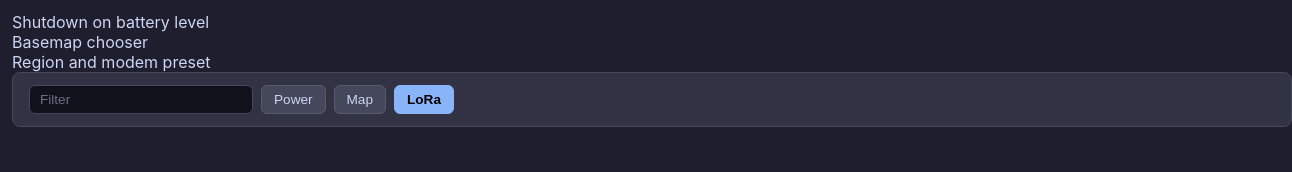
Test: SectionNav filter › matches a section by its own label
In the search field: (141, 100) [29,85,253,114], type "lora"
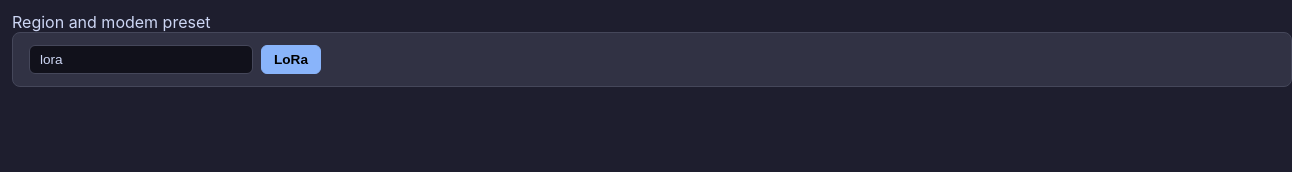
Now the buttons read "LoRa", in this order, box [261,45,321,74]
